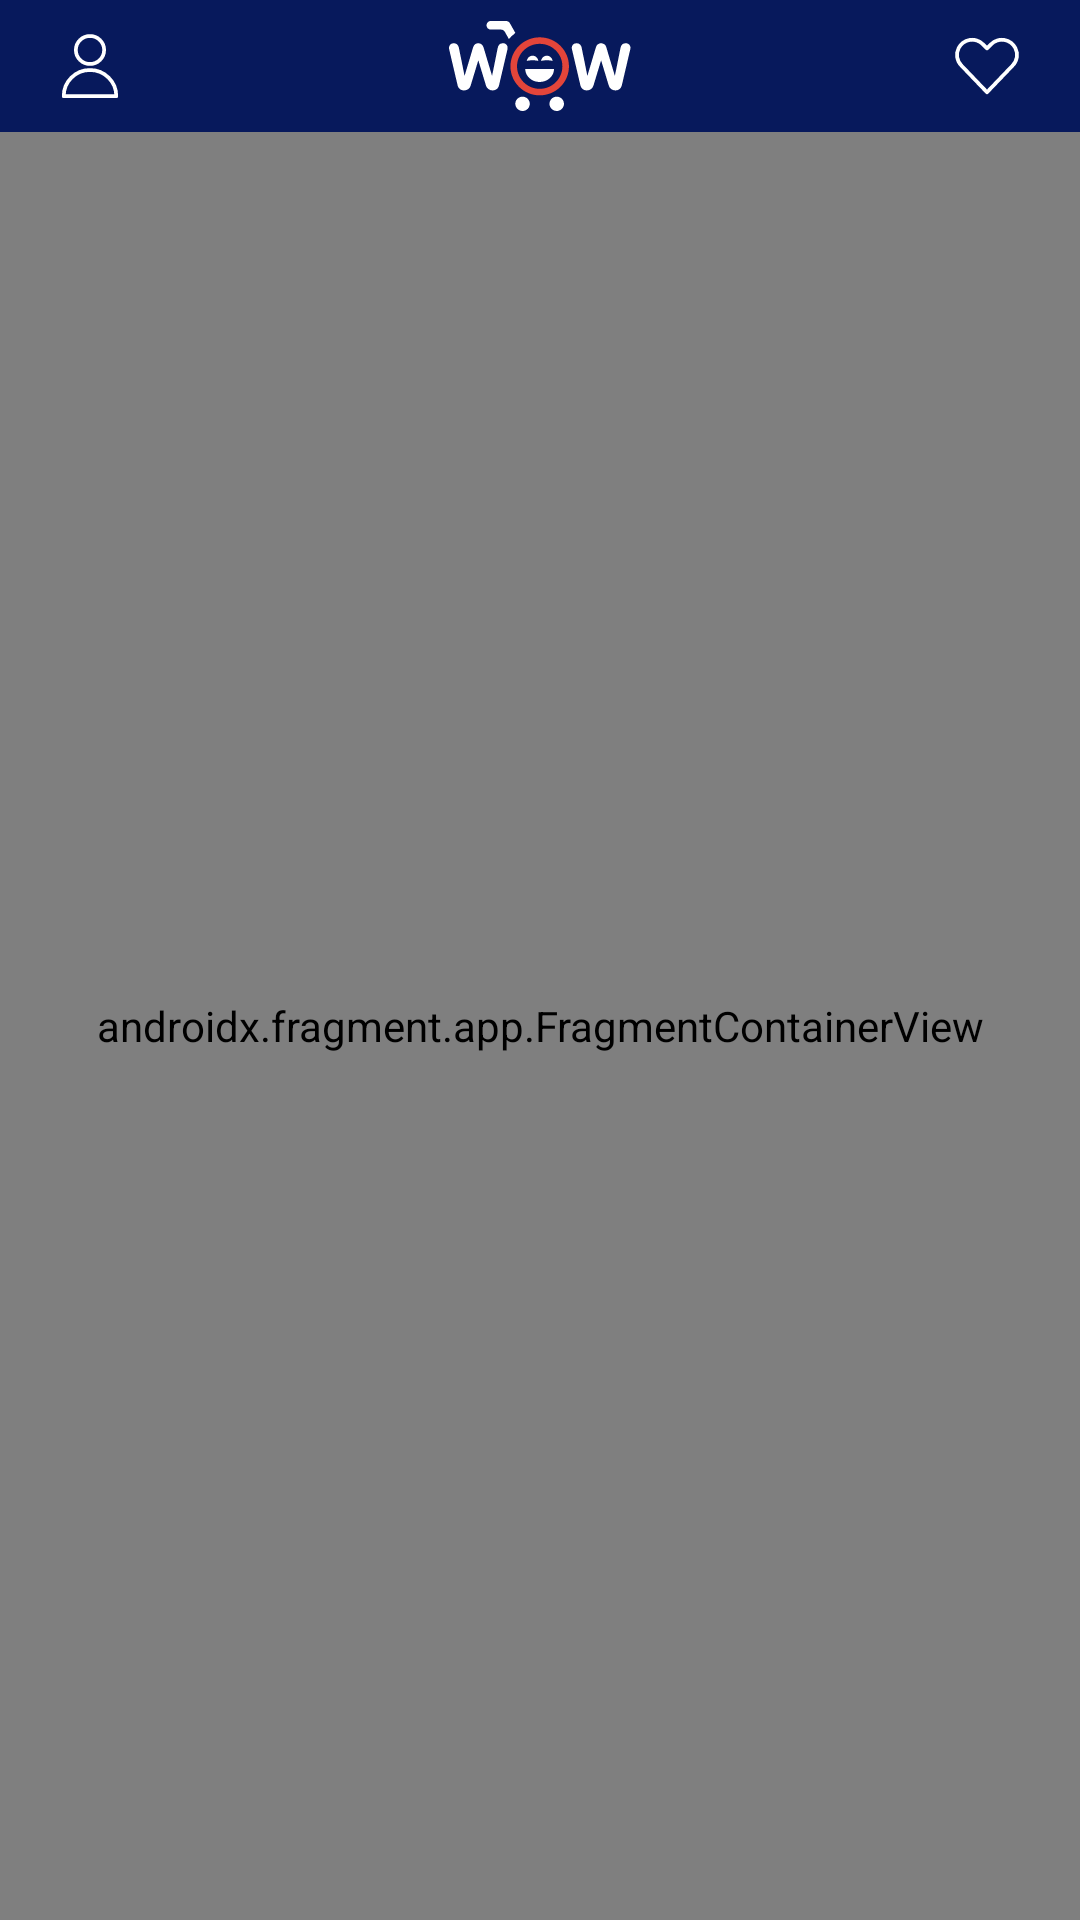

Point at icon controls on the screen. Image size 1080×1920, points as (x,y).
favorites: (987,66)
